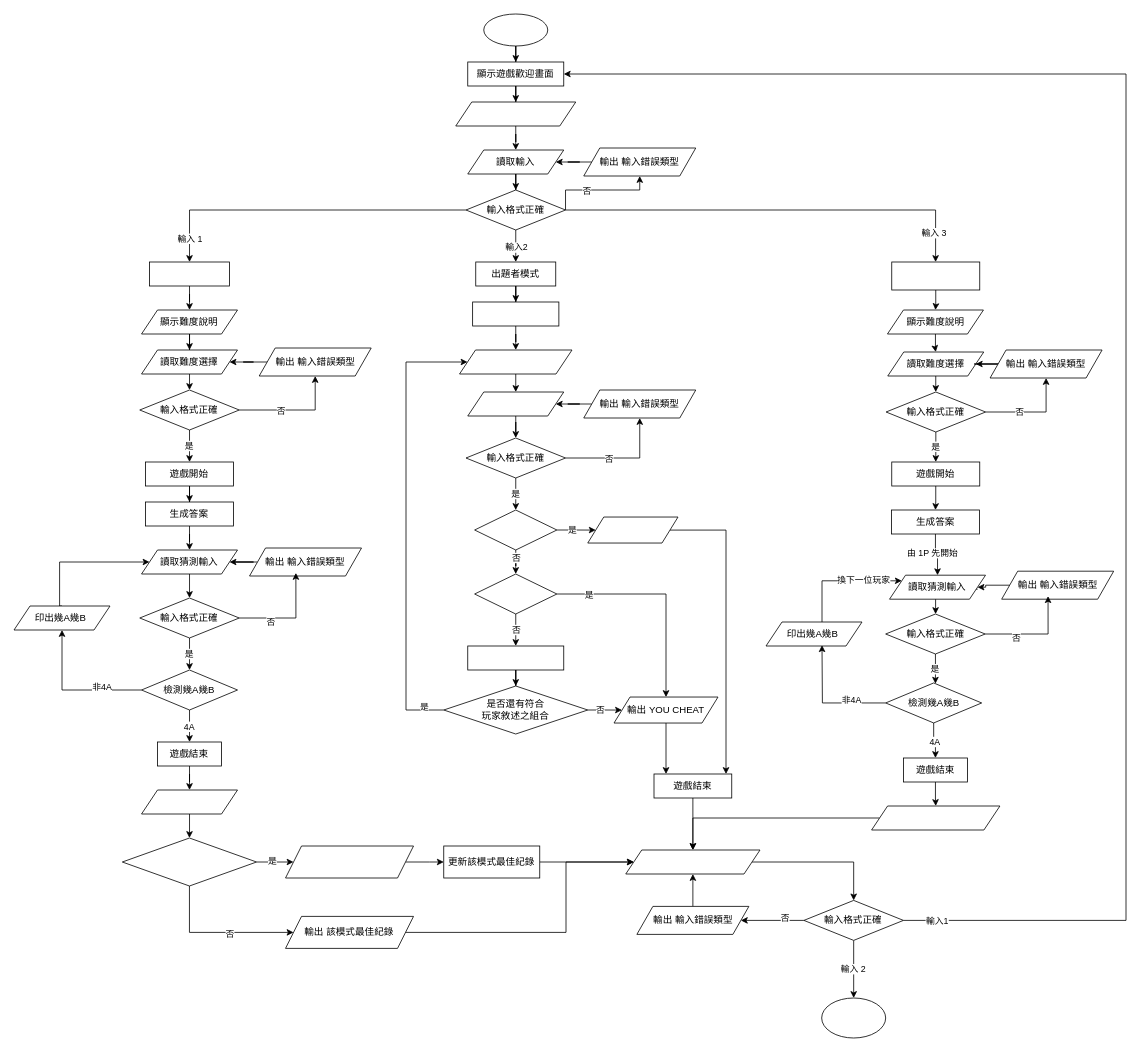
This 1146x1052 diagram has some shape labels left out. Each missing label, with the centre of its shape:
1對1對戰: the point at 935,275
A + B >4: the point at 515,593
刪除不符合的組合: the point at 515,657
印出 贏家與共猜測幾次: the point at 935,817
印出共猜測幾次: the point at 189,801
是否有4A: the point at 515,529
是否有打破該模式之紀錄: the point at 189,861
猜題者模式: the point at 189,273
生成所有組合: the point at 515,313
結束: the point at 853,1017
讀取再玩一次的選擇輸入: the point at 692,861
輸入 幾A幾B: the point at 515,403
輸出 PC WIN: the point at 632,529
輸出 此次為最佳紀錄: the point at 349,861
輸出 程式猜測組合: the point at 515,361
開始: the point at 515,29
顯示遊戲模式類別: the point at 515,113
